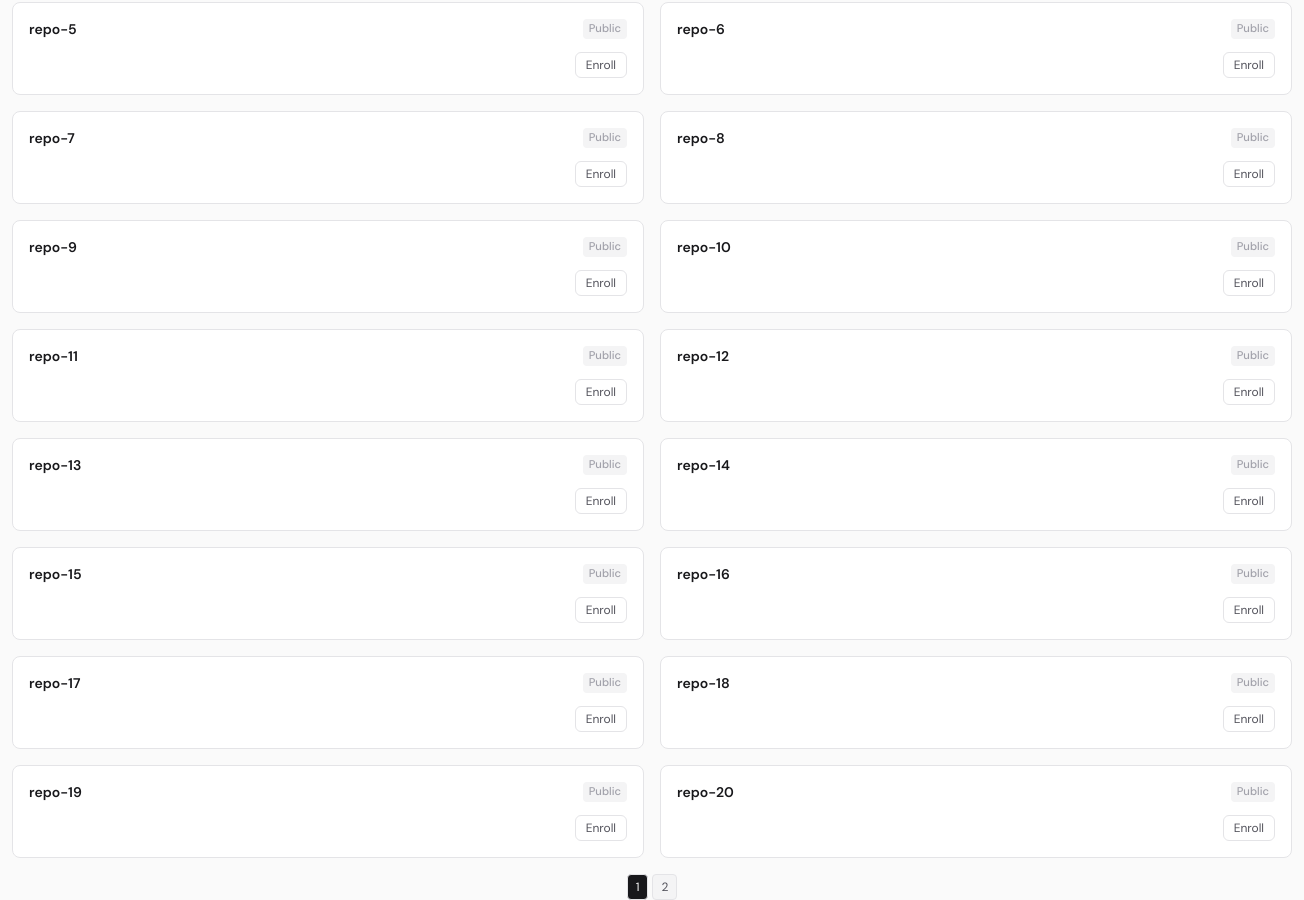
Test case: DashboardClient › navigates to page 2 and shows correct repos
(page scrolled)
Click the button "2" at x=665, y=887, box [652,874,677,899]
(page scrolled)
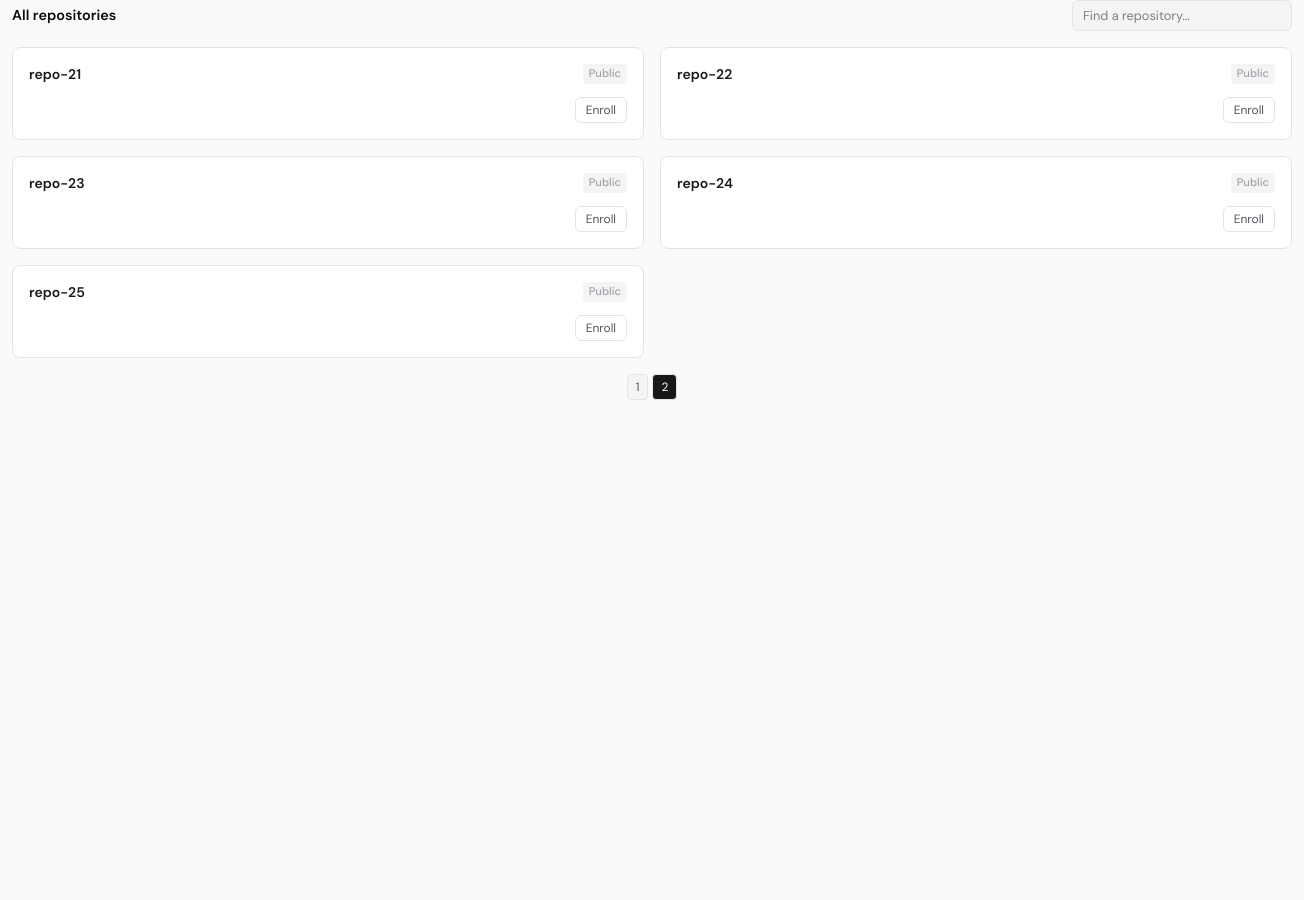
Now the text "repo-21" is shown, box [29,64,81,85]
Now the text "repo-1" is gone
